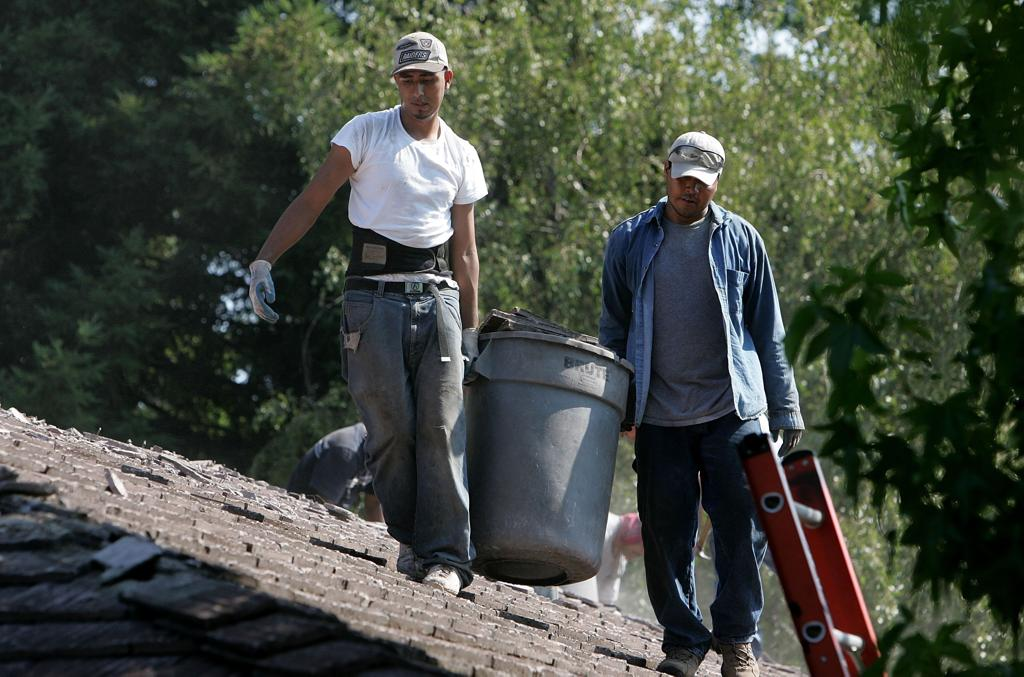face: (669, 161, 716, 216), (394, 67, 443, 117)
